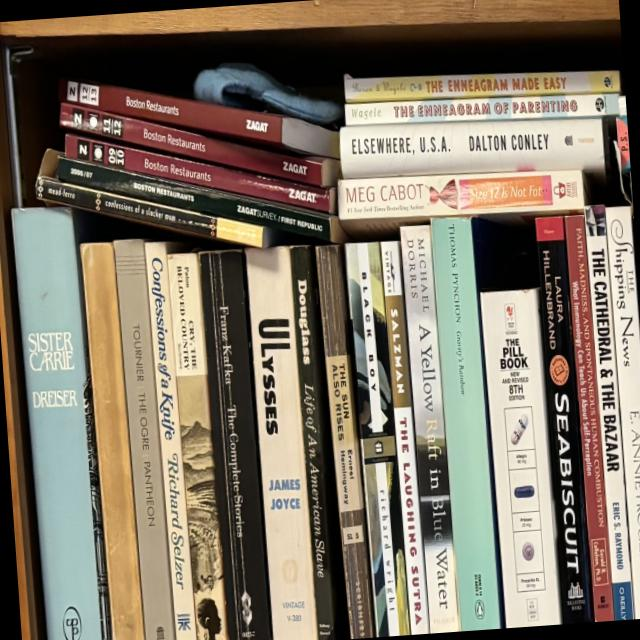book: (10, 203, 113, 640), (29, 147, 279, 280), (429, 217, 502, 629), (245, 246, 319, 640), (199, 250, 271, 640), (480, 289, 562, 627), (80, 240, 146, 640), (53, 154, 344, 244), (344, 240, 410, 636), (55, 101, 343, 191), (113, 238, 176, 640), (54, 75, 345, 160), (400, 224, 459, 632), (314, 244, 375, 638), (166, 253, 228, 640), (535, 215, 593, 622), (290, 244, 345, 639), (143, 240, 197, 640), (563, 215, 615, 620), (584, 206, 634, 619), (379, 241, 430, 633), (84, 138, 340, 215), (336, 162, 586, 237), (339, 116, 605, 179), (601, 206, 640, 618), (343, 63, 621, 103), (344, 91, 618, 127)
